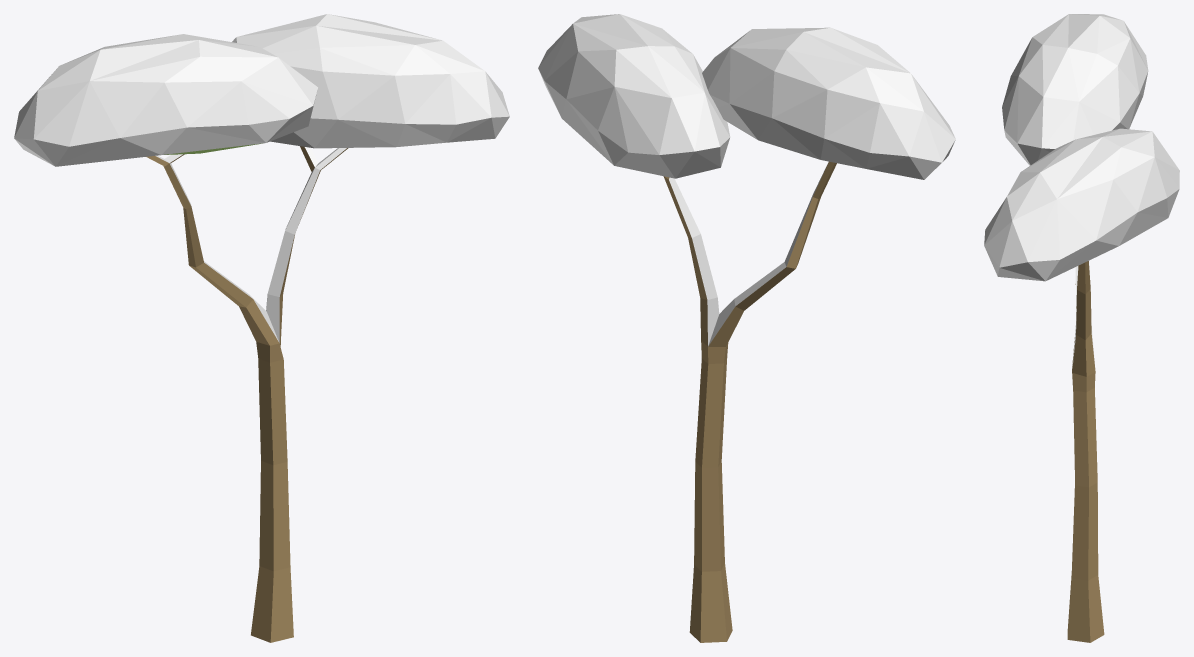
Rendered from Acacia_Tree_s_Snow_01_LOD.fbx.
3 renders of one model, left to right at view 1: azimuth 30°, elevation 25°; view 2: azimuth 150°, elevation 25°; view 3: azimuth 270°, elevation 25°, orthographic. The views are drawn at different scales.
Visible parts, largest first — view 1: Acacia_Tree_s_Snow_01_LOD0; view 2: Acacia_Tree_s_Snow_01_LOD0; view 3: Acacia_Tree_s_Snow_01_LOD0.
Part boxes in pixels (x1,y1,x2,y2): Acacia_Tree_s_Snow_01_LOD0: (14,14,509,642); Acacia_Tree_s_Snow_01_LOD0: (538,14,955,642); Acacia_Tree_s_Snow_01_LOD0: (984,14,1179,642).
Size of what is drawn, in the model's own units: 489 by 654 by 211.
